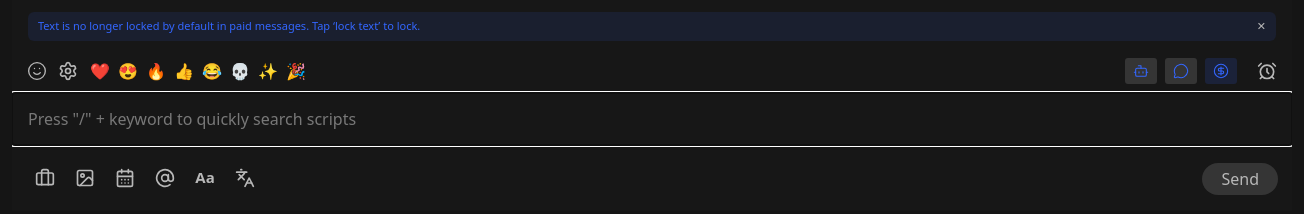
Scenario: Composer toolbar: Upload, @ and Aa › "Aa" is Not wired: aria-disabled, titled with its excuse, and a click shows it and changes nothing
Click the button "Aa". click: (205, 178)
box: [188,160,222,194]
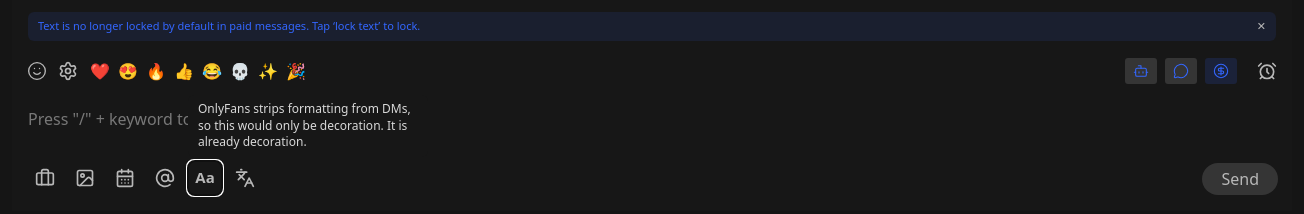
Now the message shows "OnlyFans strips formatting from DMs, so this would only be decoration. It is already decoration.", box [198,100,411,150]
